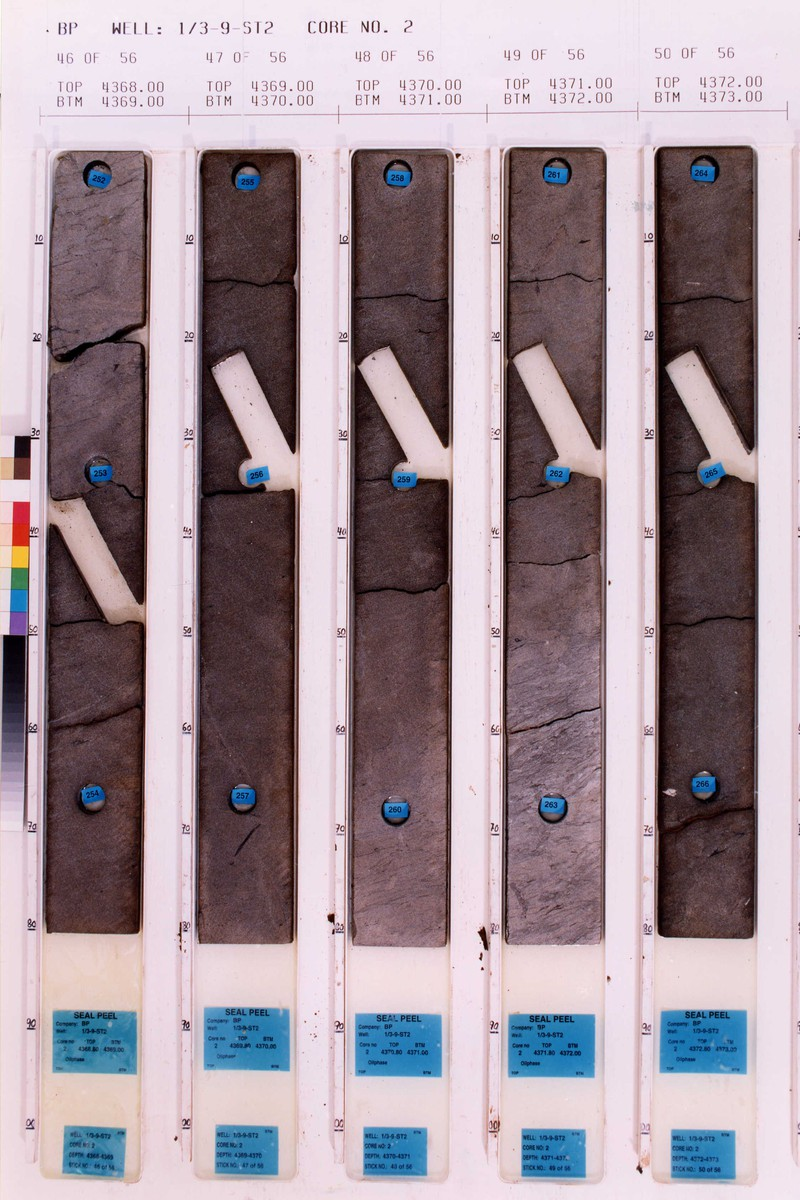core: (498, 146, 607, 950), (345, 148, 454, 950), (194, 148, 303, 947), (650, 143, 756, 943), (49, 150, 149, 946)
